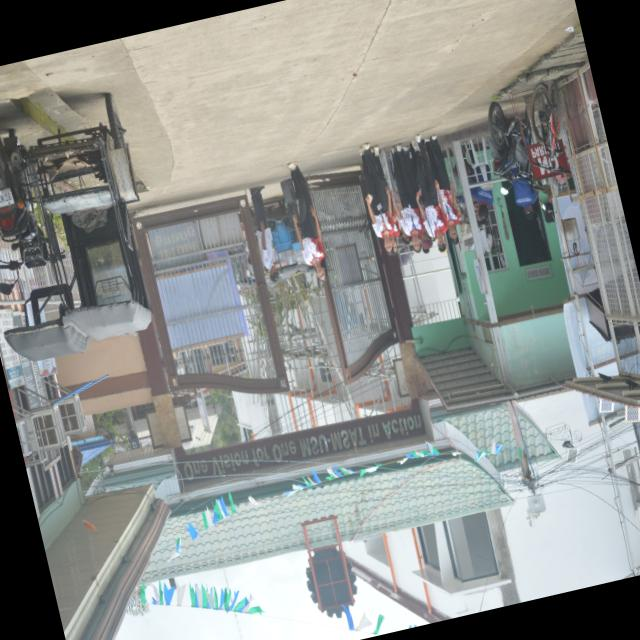person: (288, 162, 327, 281), (413, 134, 448, 252), (360, 142, 395, 254), (425, 134, 459, 243), (391, 143, 423, 251), (250, 185, 279, 282)
